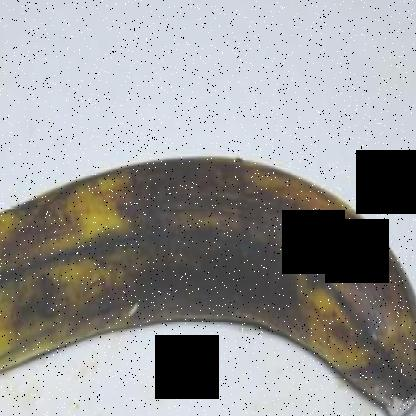overripe: (0, 128, 415, 415)
